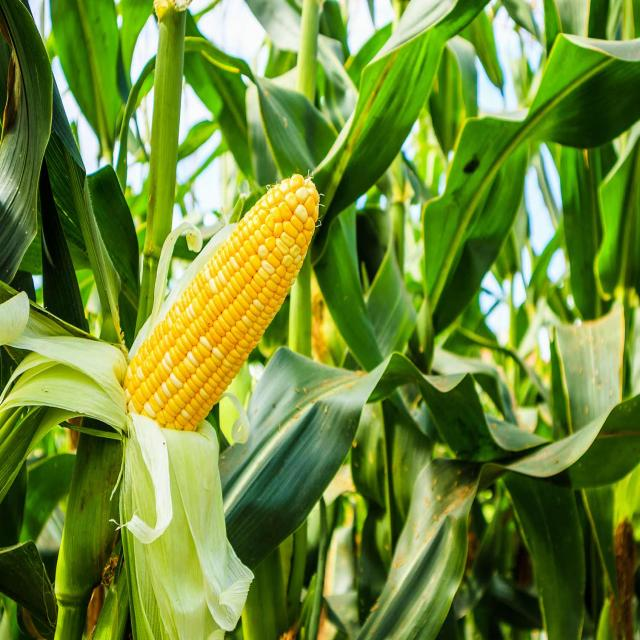corn: (112, 160, 336, 450)
